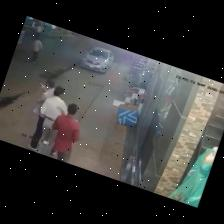person: (36, 86, 67, 155), (26, 80, 54, 150), (52, 103, 78, 162), (29, 38, 41, 62), (35, 24, 41, 38)
